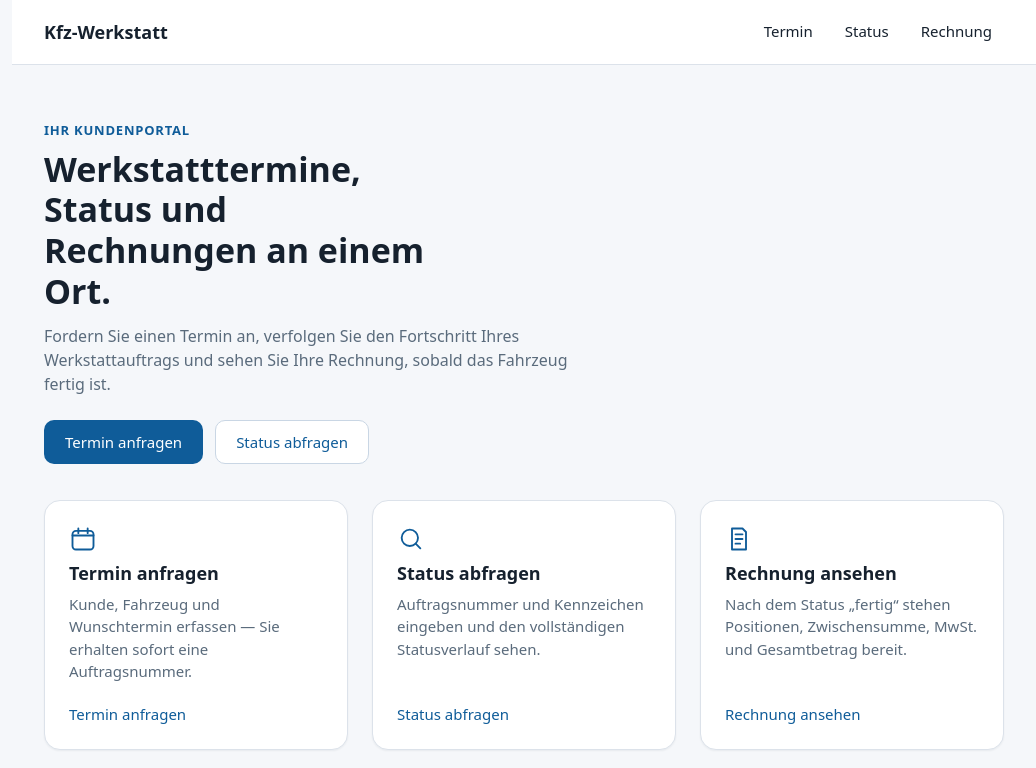
Test: App shell › navigates between public pages through the navigation
Click the link "Status". click: {"x": 867, "y": 31}
box: [845,21,889,41]
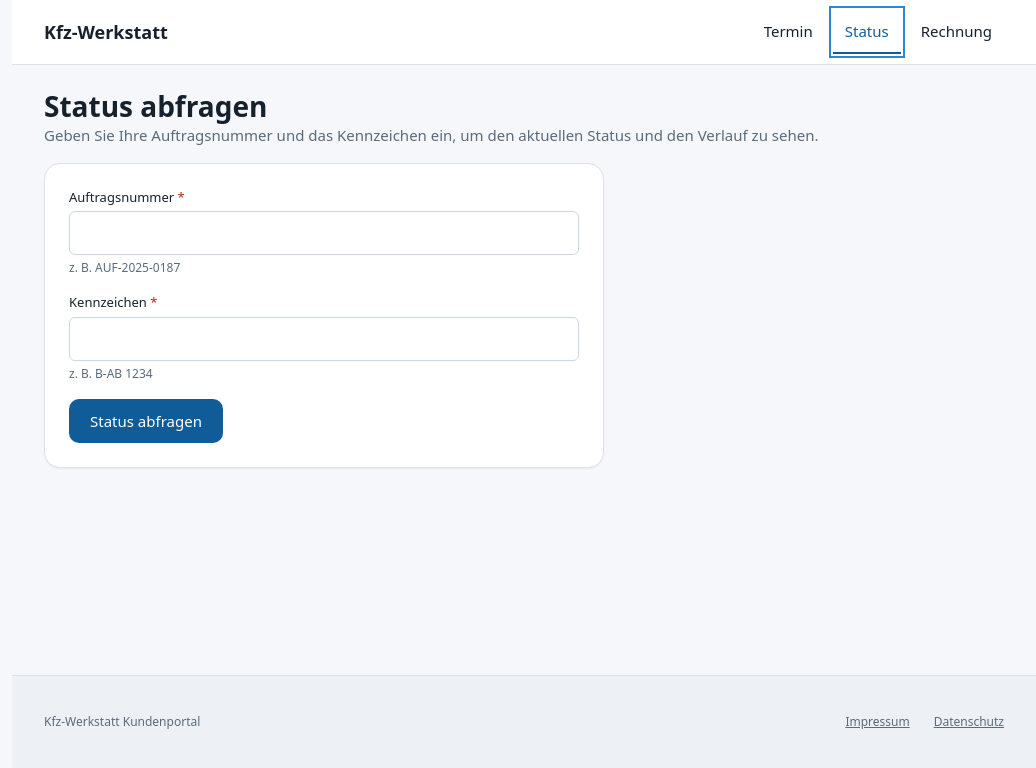
Click the link "Rechnung". click: {"x": 956, "y": 31}
box: [921,21,992,41]
(page scrolled)
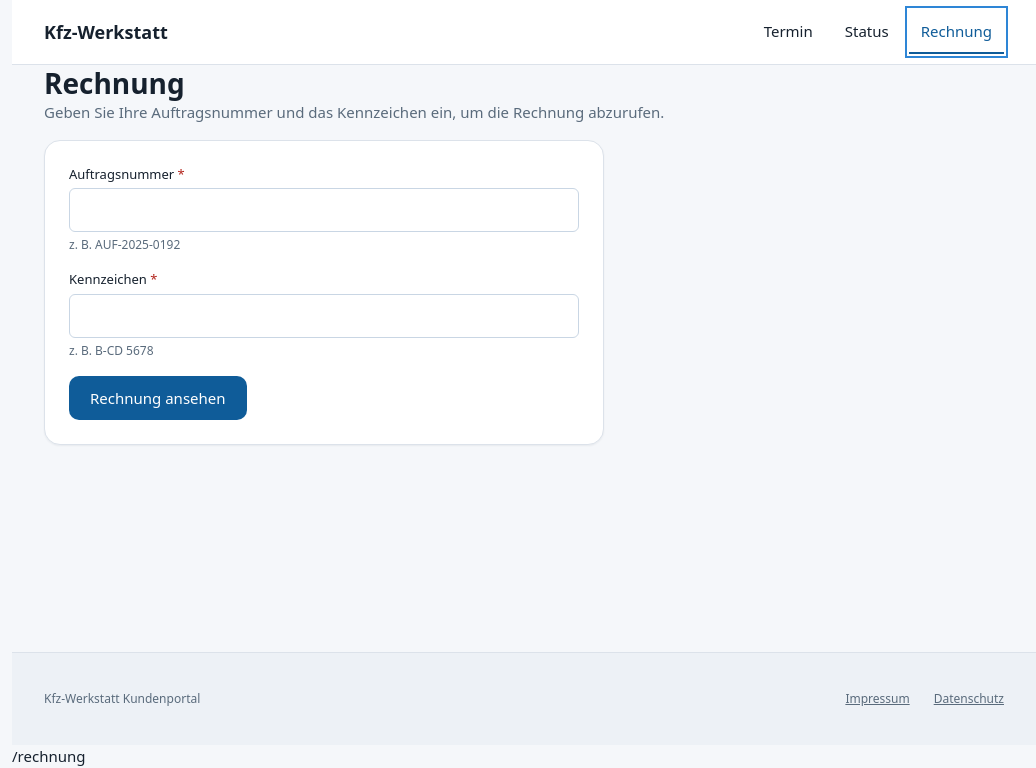
Expected: the text with test id "location" reads "/rechnung", [12,746,86,766]
